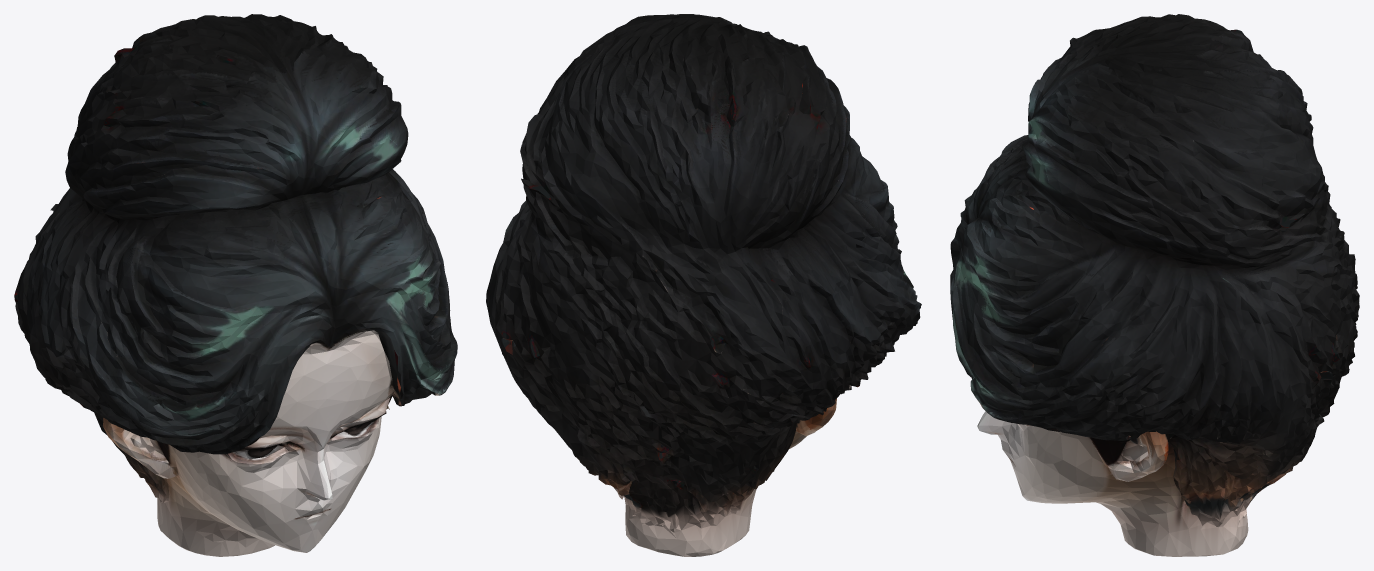
The model's file is side_satomi_repaired_atlas.glb.
The picture shows the model from 3 angles, left to right: view 1: azimuth 30°, elevation 25°; view 2: azimuth 150°, elevation 25°; view 3: azimuth 270°, elevation 25°; orthographic projection. The views are drawn at different scales.
Parts seen in each view (by area): view 1: temp_mesh.ply; view 2: temp_mesh.ply; view 3: temp_mesh.ply.
Part boxes in pixels (x1=…): temp_mesh.ply: x1=14, y1=14, x2=457, y2=556; temp_mesh.ply: x1=486, y1=14, x2=921, y2=556; temp_mesh.ply: x1=950, y1=14, x2=1359, y2=556.
Bounding box in the file's own units: 1.49 × 1.97 × 1.48.
Materials: 1 (1 with a texture image).
